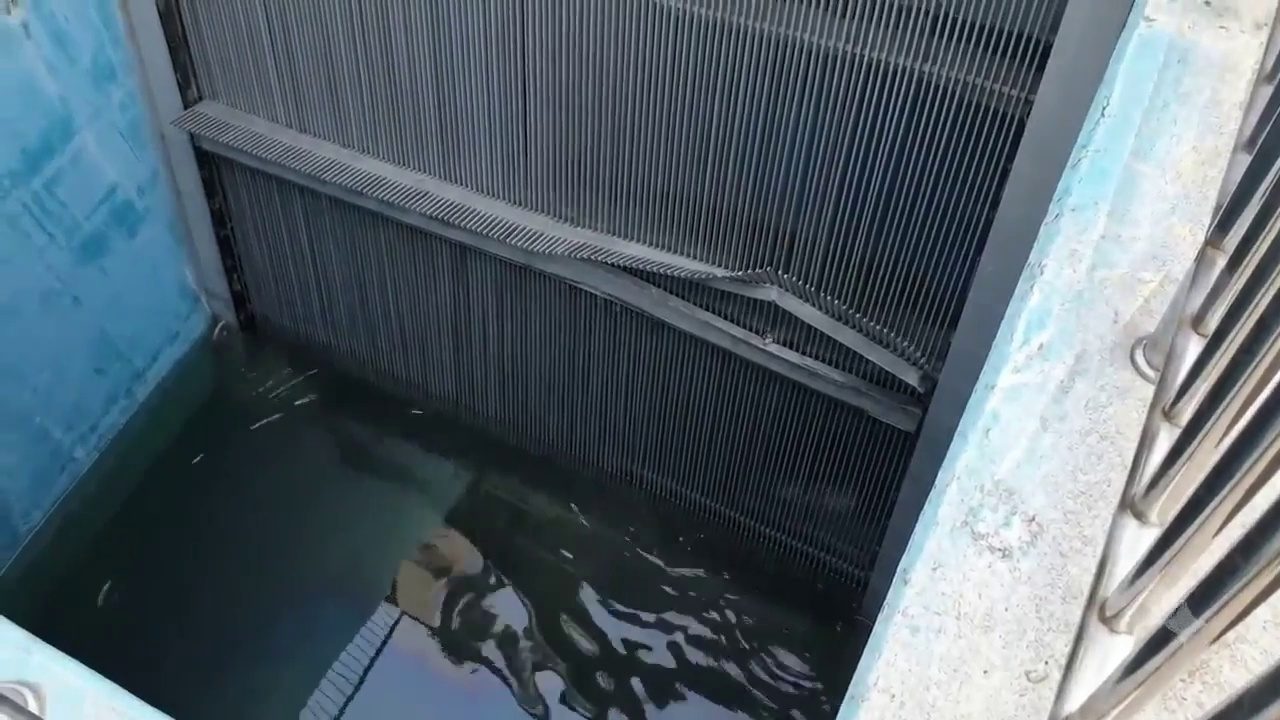damage: (524, 228, 934, 419)
